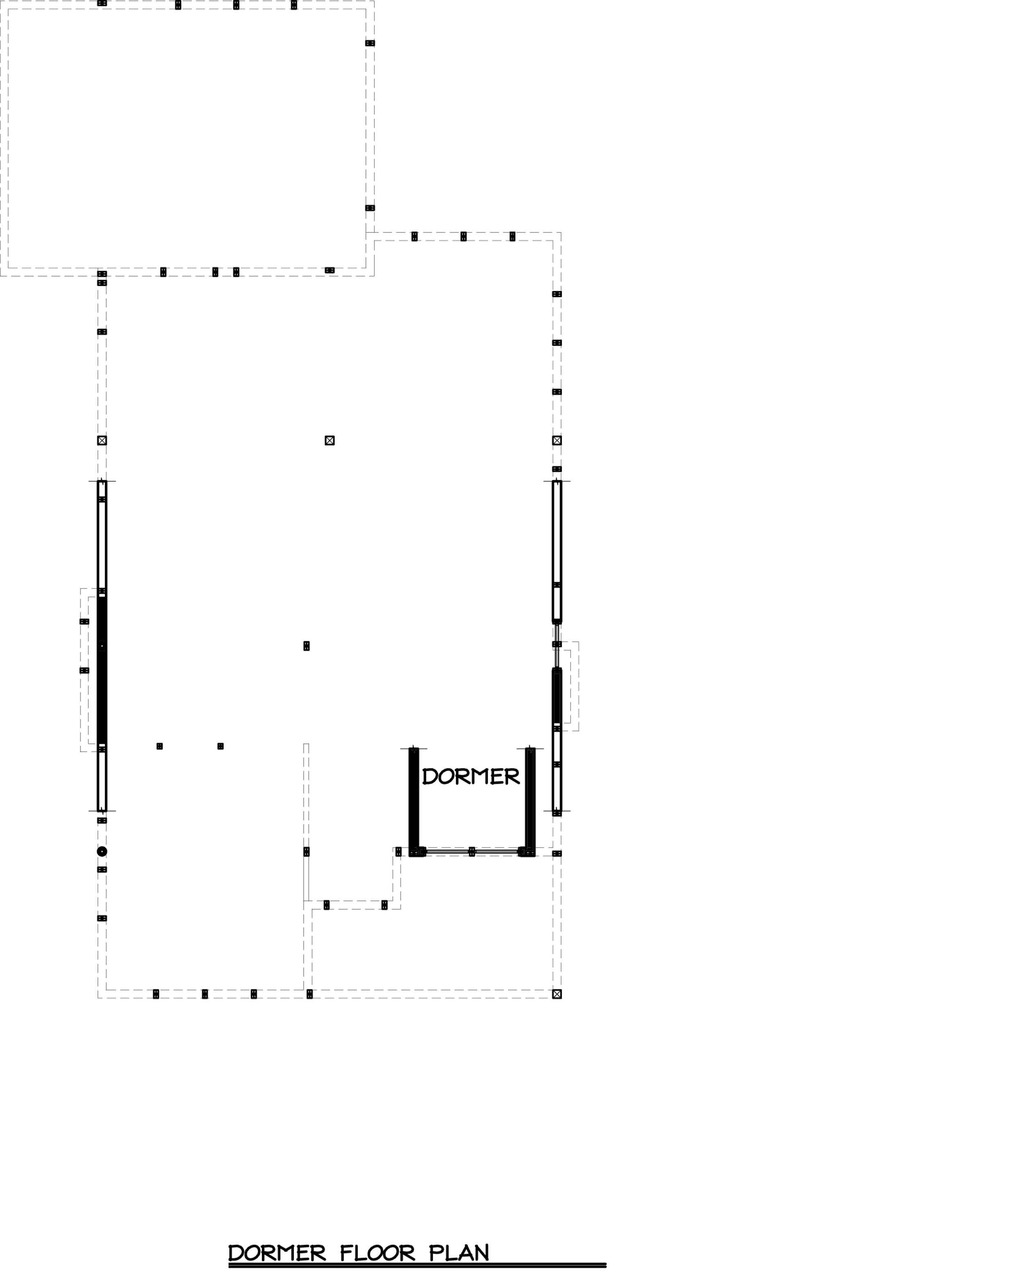window: (540, 474, 572, 628), (88, 592, 118, 750), (532, 652, 578, 748), (86, 474, 120, 600)
